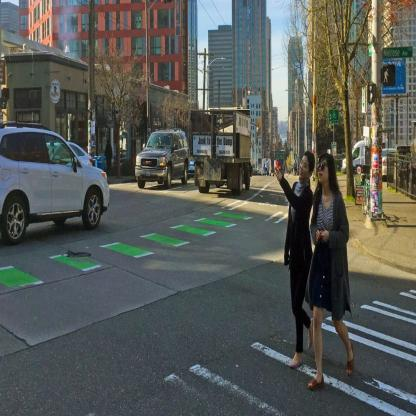Crosswalk: (243, 288, 416, 407)
Walk: (381, 63, 398, 92)
